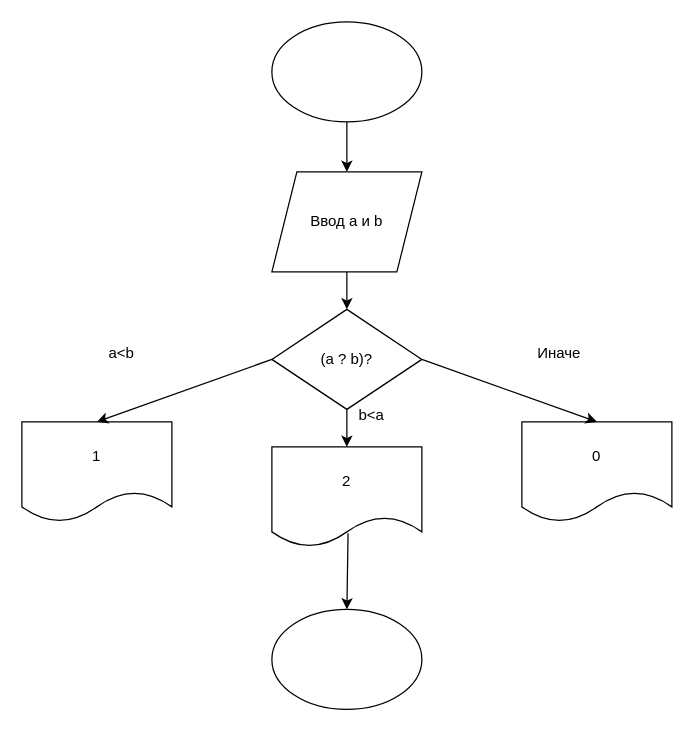
Some shapes in this 694 by 731 pixel diagram are drawn without their labels. Here are the shapes that lost their labels. From the top down, the centre of each, then its label:
At point 346,71: "Начало".
At point 346,658: "Конец".
